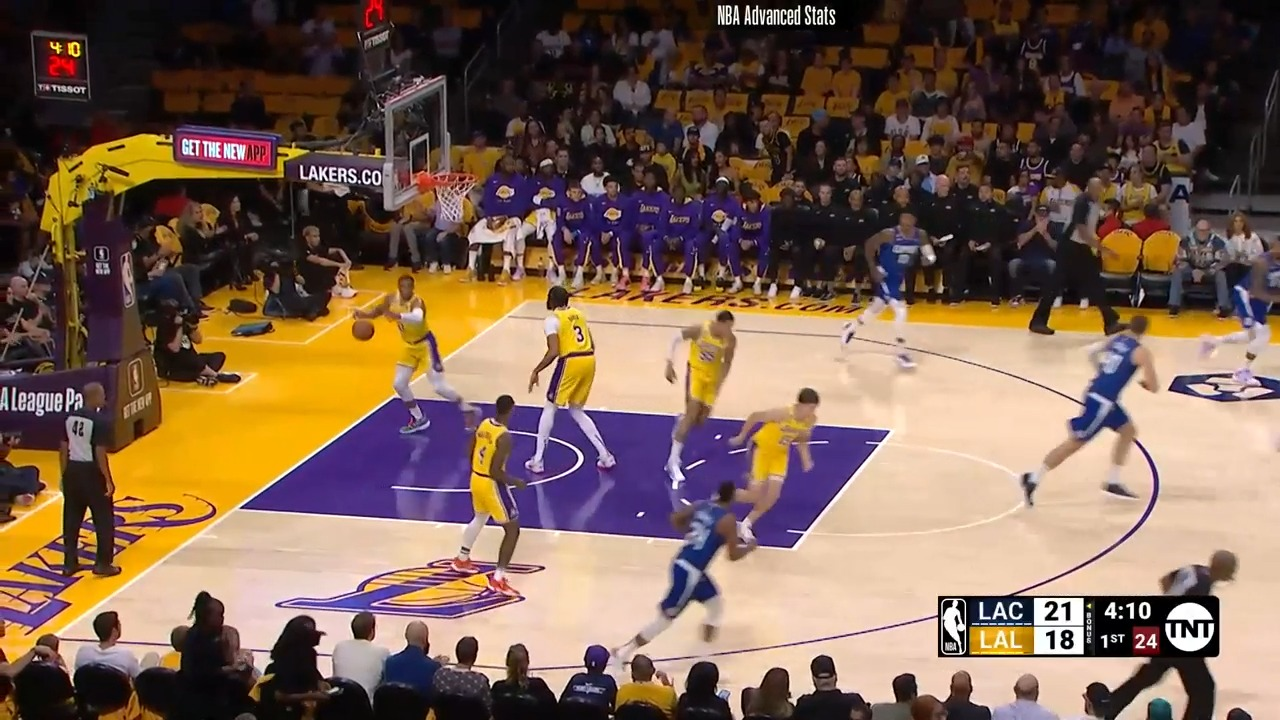net: (395, 165, 480, 235)
player: (1019, 310, 1164, 511), (614, 481, 758, 671), (354, 270, 485, 439), (527, 286, 617, 478), (654, 304, 745, 492), (842, 211, 937, 380), (734, 387, 825, 555), (458, 395, 530, 603), (1209, 239, 1280, 389)
referee: (1099, 545, 1235, 715), (1026, 173, 1125, 342), (55, 379, 125, 581)
